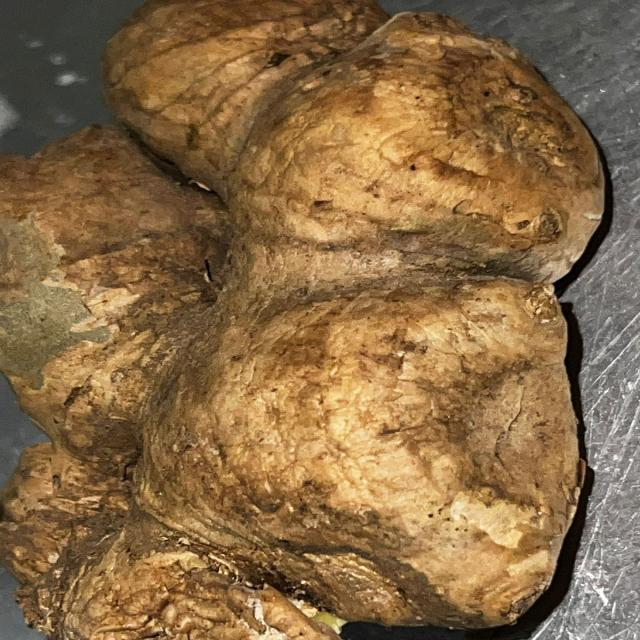ginger: (19, 30, 616, 624)
